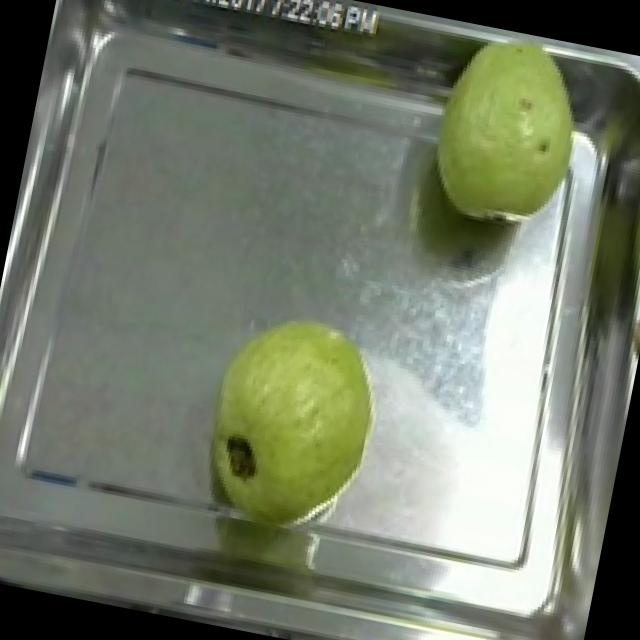Fruit: (182, 288, 404, 546), (408, 21, 613, 252)
